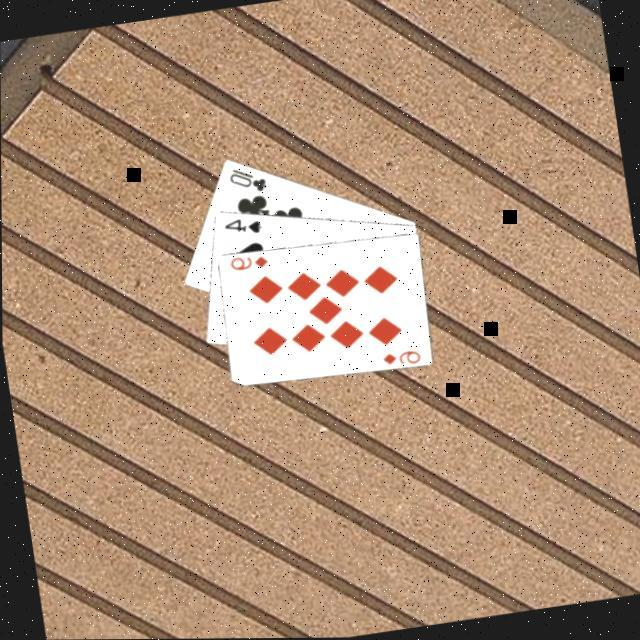10C: (223, 163, 269, 201)
4S: (219, 214, 264, 242)
9D: (224, 251, 270, 276), (378, 347, 423, 372)
